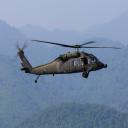helicopter: (14, 38, 122, 85)
